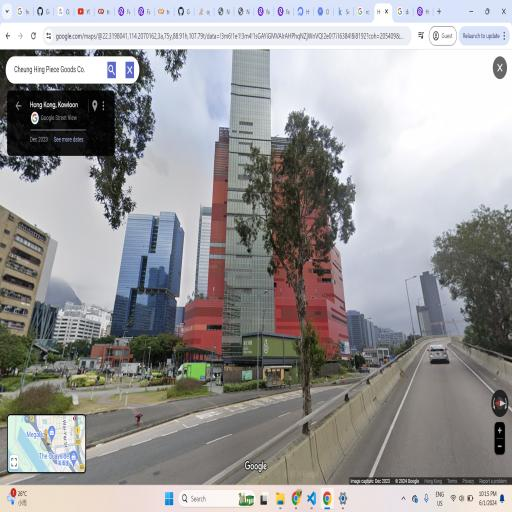Roads: (70, 333, 512, 469)
Trees: (257, 131, 352, 426), (419, 198, 512, 346)
